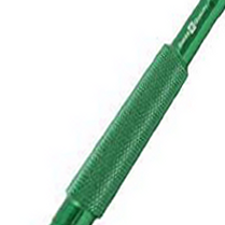Screwdriver: (49, 1, 225, 225)
